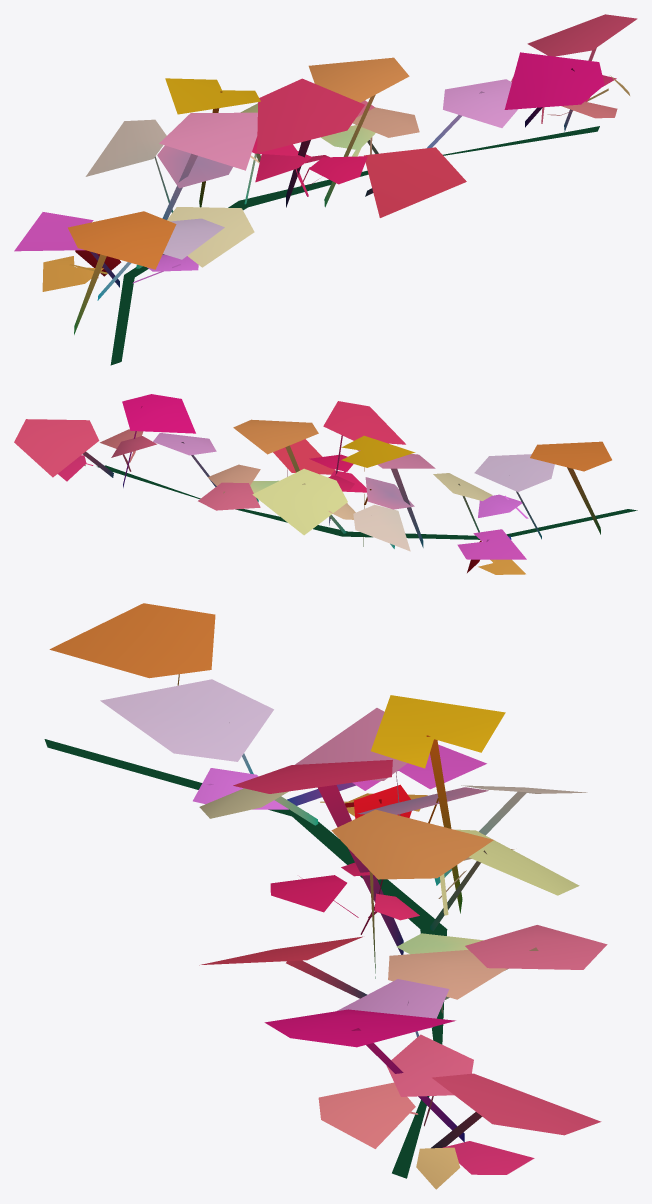
The model's file is English_Ivy_xfcnebhqx_Mid_xfcnebhqx_VarG_LOD2.fbx.
The picture shows the model from 3 angles, top to bottom: view 1: azimuth 30°, elevation 25°; view 2: azimuth 150°, elevation 25°; view 3: azimuth 270°, elevation 25°; orthographic projection. The views are drawn at different scales.
Parts seen in each view (by area): view 1: _54it_VarG_LOD4; view 2: _54it_VarG_LOD4; view 3: _54it_VarG_LOD4.
Part boxes in pixels (x1,y1,x2,y2): _54it_VarG_LOD4: (14,14,637,365); _54it_VarG_LOD4: (14,394,637,574); _54it_VarG_LOD4: (44,603,607,1189).
Size of the model in its own units: 63.13 by 13.43 by 30.79.
